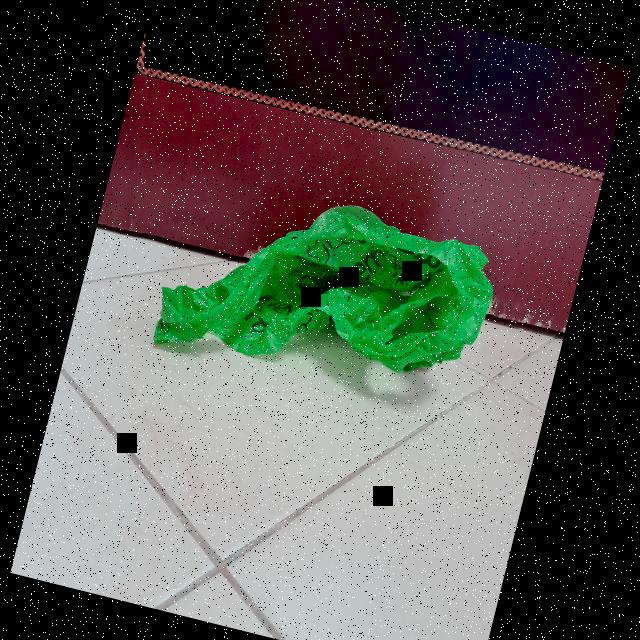plastic_bag: (132, 144, 518, 472)
